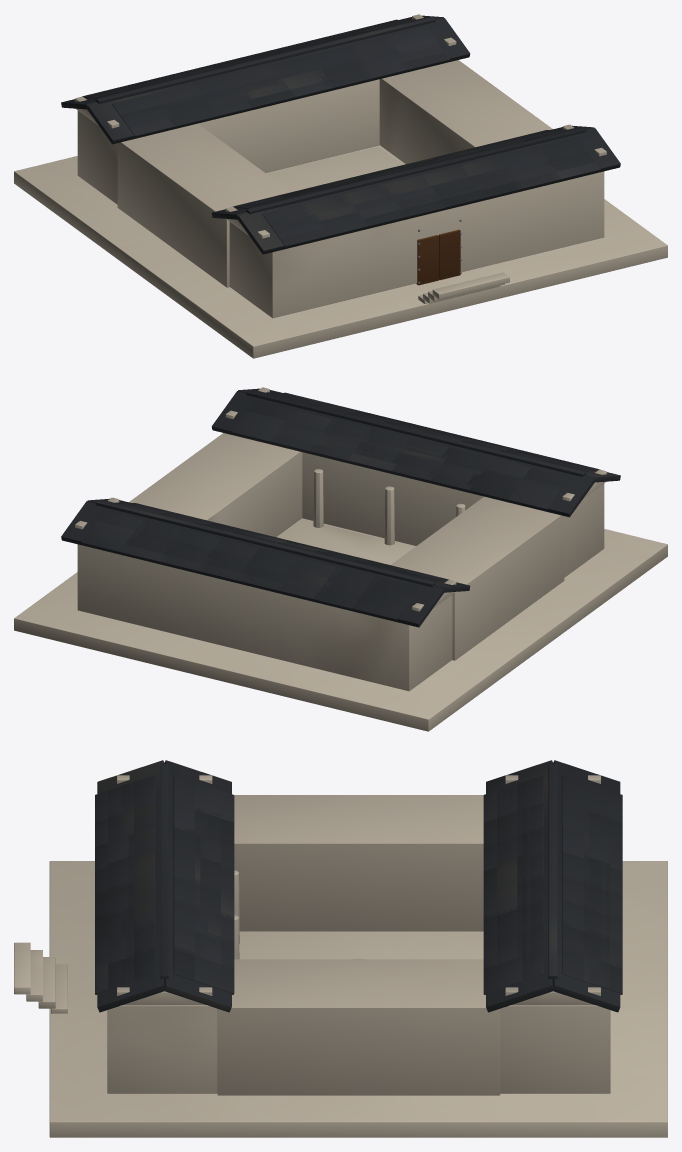
File: building_church_warrior_monastery.fbx
The picture shows the model from 3 angles, top to bottom: view 1: azimuth 30°, elevation 25°; view 2: azimuth 150°, elevation 25°; view 3: azimuth 270°, elevation 25°; orthographic projection. The views are drawn at different scales.
Parts seen in each view (by area): view 1: building_church_warrior_monastery; view 2: building_church_warrior_monastery; view 3: building_church_warrior_monastery.
Part boxes in pixels (x1,y1,x2,y2): building_church_warrior_monastery: (14,14,667,358); building_church_warrior_monastery: (14,387,667,731); building_church_warrior_monastery: (14,760,667,1137).
Bounding box in the file's own units: 14 × 3.44 × 14.81.
